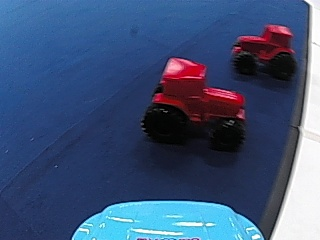tractor: (143, 53, 251, 151), (228, 20, 300, 80)
